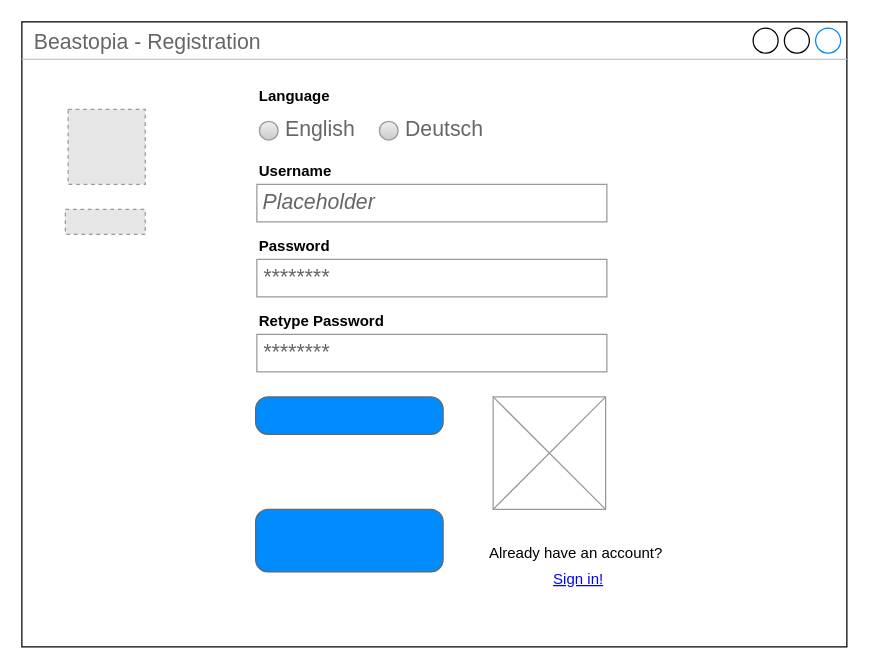
Image size: 869x669. Some labels were removed from this diagram. Grey dashed boxes stand in for pictures. The centre of each missing label's shape, as x and y in pixels:
Sign Up: pixel 348 540
Upload Avatar: pixel 348 415
